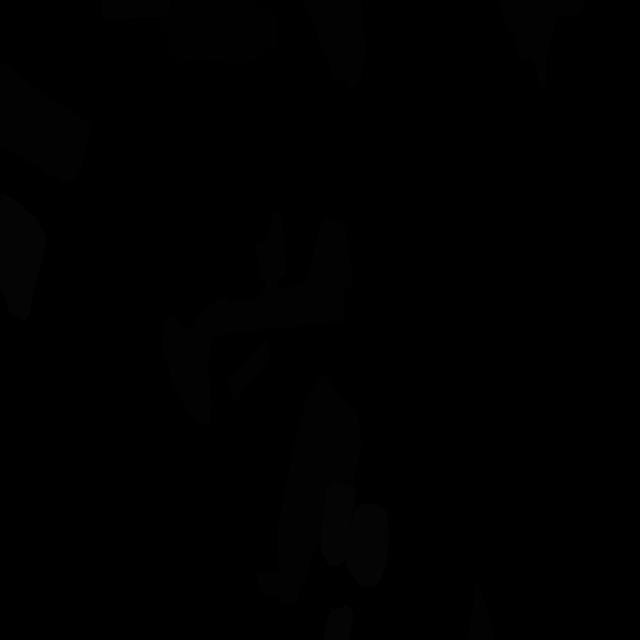cardboard: (162, 212, 354, 426), (256, 374, 362, 607), (0, 64, 92, 183), (499, 0, 587, 97), (302, 0, 366, 86), (228, 338, 270, 405), (468, 580, 494, 640), (100, 0, 172, 20)
rigid_plastic: (162, 0, 278, 64)
soft_plastic: (0, 192, 47, 321), (345, 504, 388, 586), (320, 480, 356, 566), (323, 605, 354, 640)
